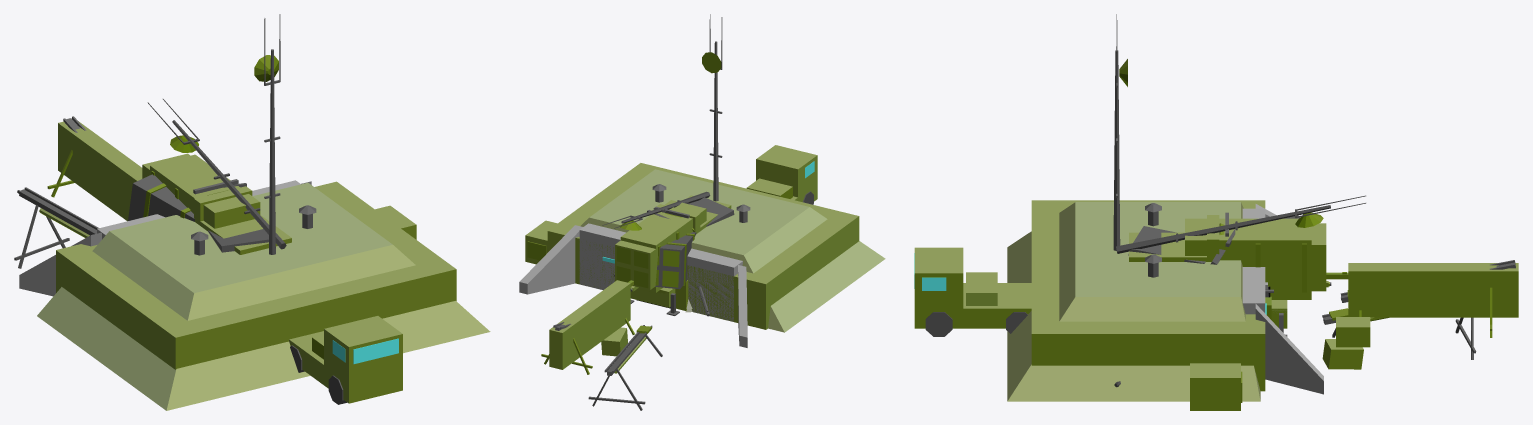
Rendered from aaa.glb.
3 views of the same model, side by side, from view 1: azimuth 30°, elevation 25°; view 2: azimuth 150°, elevation 25°; view 3: azimuth 270°, elevation 25° (orthographic). The views are drawn at different scales.
Visible parts, largest first — view 1: aaa_116_lod0_s1v0, aaa_116_lod1_s1v0, aaa_113_lod1_s1v0, aaa_116_lod0_s1v1, aaa_113_lod0_s1v0, aaa_113_lod0_s1v1, aaa_114_lod1_s1v0, aaa_114_lod0_s1v1, aaa_113_lod0_s1v0_part2, aaa_114_lod0_s1v0_part1; view 2: aaa_116_lod0_s1v0, aaa_116_lod1_s1v0, aaa_113_lod1_s1v0, aaa_116_lod0_s1v1, aaa_113_lod0_s1v0_part2, aaa_113_lod0_s1v0, aaa_113_lod0_s1v1, aaa_114_lod0_s1v1, aaa_114_lod1_s1v0; view 3: aaa_116_lod0_s1v0, aaa_116_lod1_s1v0, aaa_113_lod1_s1v0, aaa_113_lod0_s1v0, aaa_116_lod0_s1v1, aaa_113_lod0_s1v0_part2, aaa_114_lod1_s1v0, aaa_114_lod0_s1v1, aaa_114_lod0_s1v0_part1.
Boxes of the visible parts, x1,y1,x2,y2 form: aaa_116_lod0_s1v0: [19, 14, 490, 410]; aaa_116_lod1_s1v0: [56, 121, 456, 369]; aaa_113_lod1_s1v0: [150, 154, 402, 403]; aaa_116_lod0_s1v1: [14, 99, 286, 268]; aaa_113_lod0_s1v0: [290, 322, 398, 404]; aaa_113_lod0_s1v1: [128, 174, 194, 221]; aaa_114_lod1_s1v0: [194, 186, 291, 250]; aaa_114_lod0_s1v1: [208, 183, 268, 252]; aaa_113_lod0_s1v0_part2: [142, 153, 260, 225]; aaa_114_lod0_s1v0_part1: [193, 179, 291, 254]; aaa_116_lod0_s1v0: [519, 14, 885, 374]; aaa_116_lod1_s1v0: [547, 163, 859, 369]; aaa_113_lod1_s1v0: [620, 145, 817, 307]; aaa_116_lod0_s1v1: [588, 191, 710, 410]; aaa_113_lod0_s1v0_part2: [615, 212, 706, 289]; aaa_113_lod0_s1v0: [630, 146, 814, 315]; aaa_113_lod0_s1v1: [655, 232, 696, 289]; aaa_114_lod0_s1v1: [647, 197, 734, 226]; aaa_114_lod1_s1v0: [657, 196, 731, 233]; aaa_116_lod0_s1v0: [1007, 14, 1515, 410]; aaa_116_lod1_s1v0: [1031, 200, 1518, 391]; aaa_113_lod1_s1v0: [914, 218, 1311, 328]; aaa_113_lod0_s1v0: [914, 248, 1287, 336]; aaa_116_lod0_s1v1: [1116, 195, 1476, 369]; aaa_113_lod0_s1v0_part2: [1243, 223, 1326, 292]; aaa_114_lod1_s1v0: [1129, 215, 1219, 261]; aaa_114_lod0_s1v1: [1128, 226, 1235, 264]; aaa_114_lod0_s1v0_part1: [1129, 212, 1228, 261].
Size of the model in its own units: 261 by 263 by 407.
